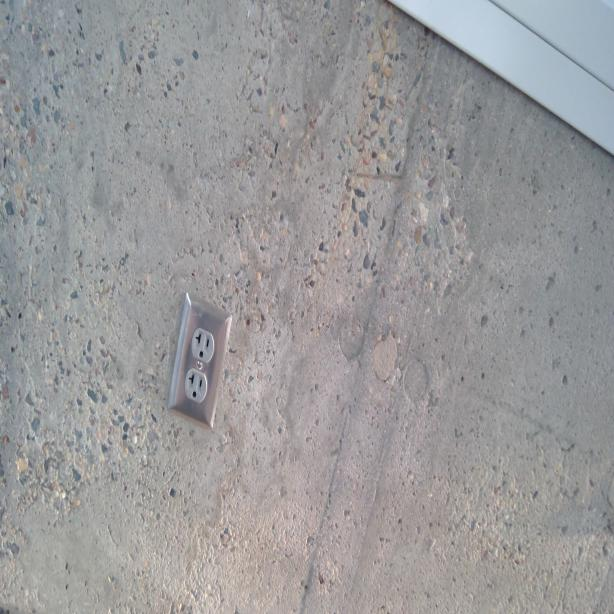typeb: (193, 326, 214, 361), (186, 370, 206, 402)
